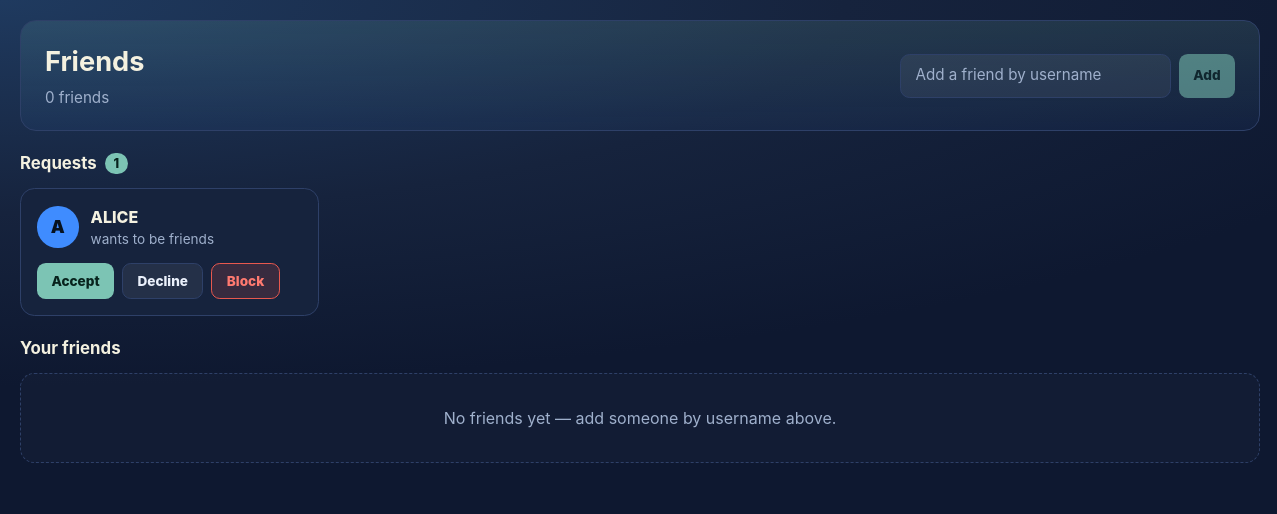
Friends page › shows an error in PendingCard when respond rejects
Click the button "Block" at (246, 281), box [211, 262, 280, 299]
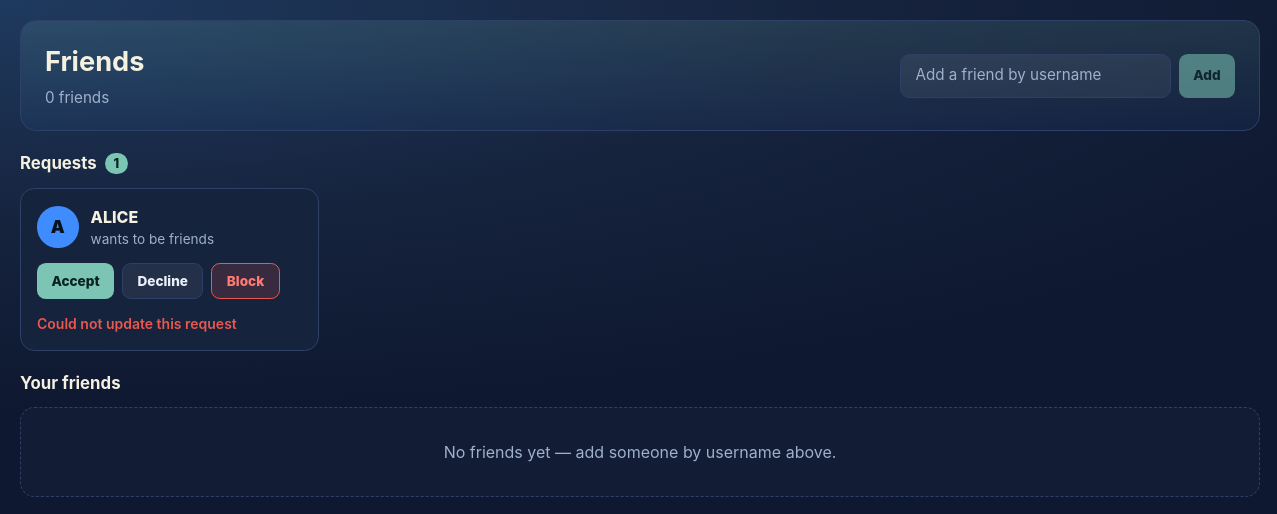
expect the text "Could not update this request" is shown: met, box [37, 315, 237, 332]
